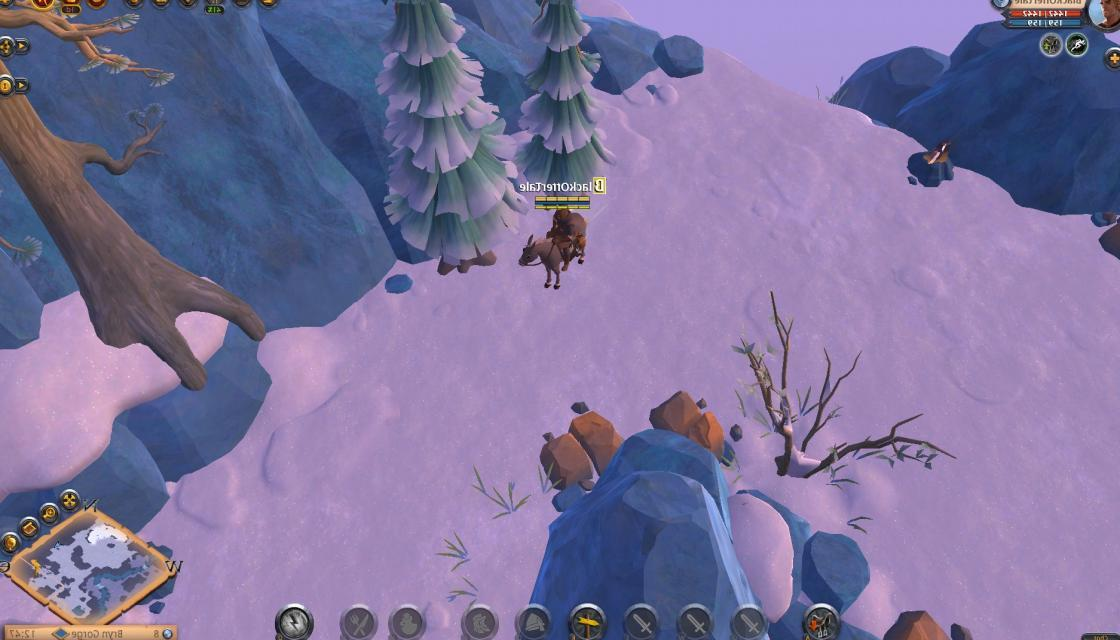copperore: (904, 136, 960, 188)
limestone: (538, 409, 624, 490), (648, 386, 731, 460), (875, 602, 978, 640), (1090, 208, 1120, 270)
